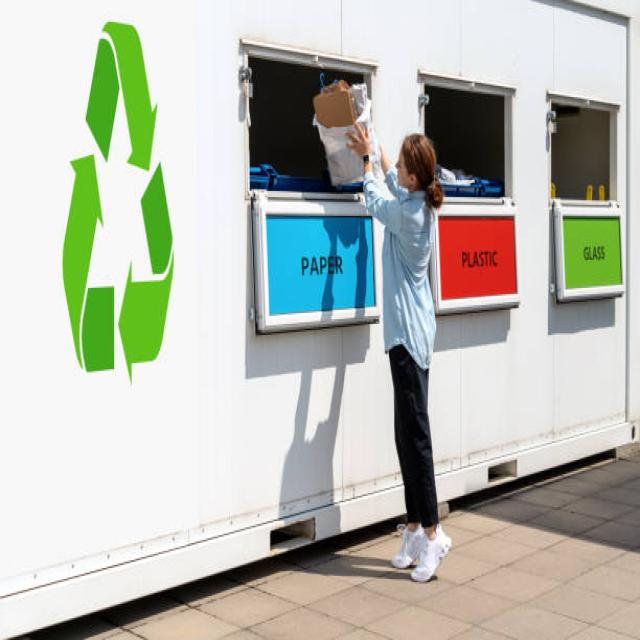cardboard: (315, 90, 353, 128)
